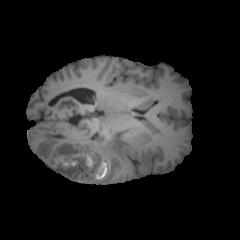glioma: (39, 128, 130, 183)
